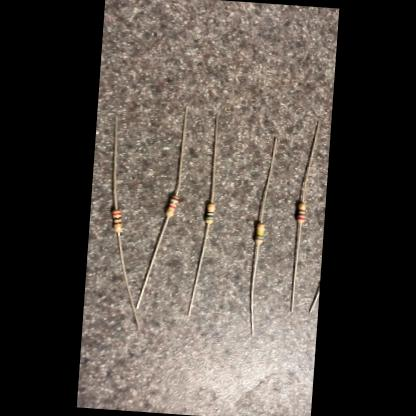resistor: (112, 210, 124, 233), (167, 196, 179, 218), (254, 222, 265, 245), (296, 202, 306, 224), (206, 203, 216, 225)
wire: (110, 232, 146, 329), (137, 216, 169, 312), (187, 223, 210, 318), (108, 116, 126, 210), (302, 120, 321, 202), (260, 138, 278, 224), (176, 106, 188, 196), (249, 245, 260, 336), (292, 224, 302, 313), (212, 115, 219, 204), (310, 286, 320, 312)
